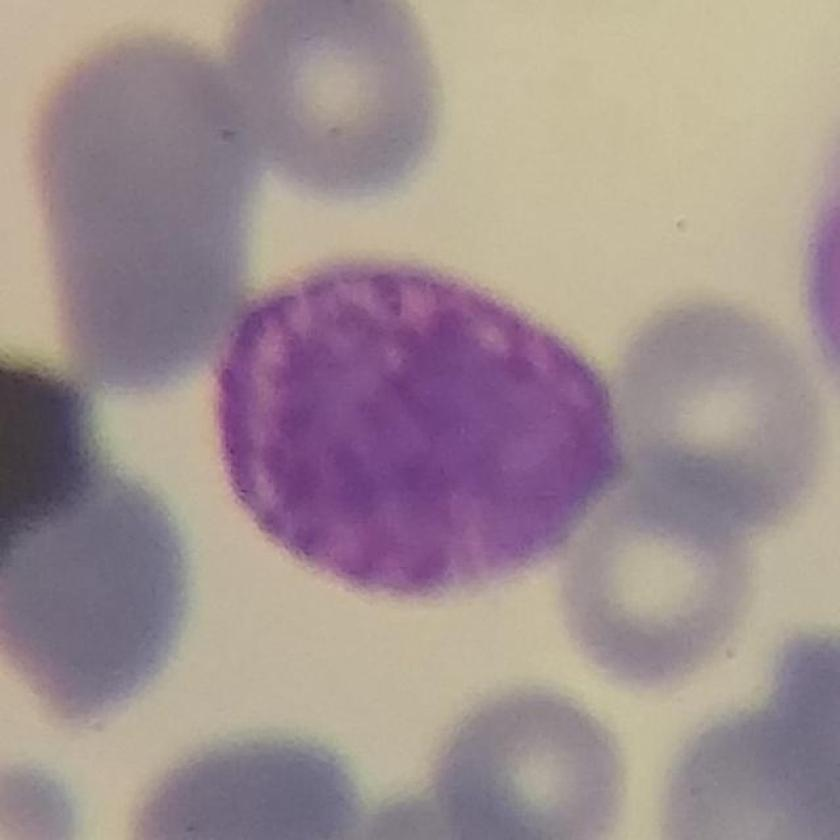basophil: (203, 212, 644, 630)
